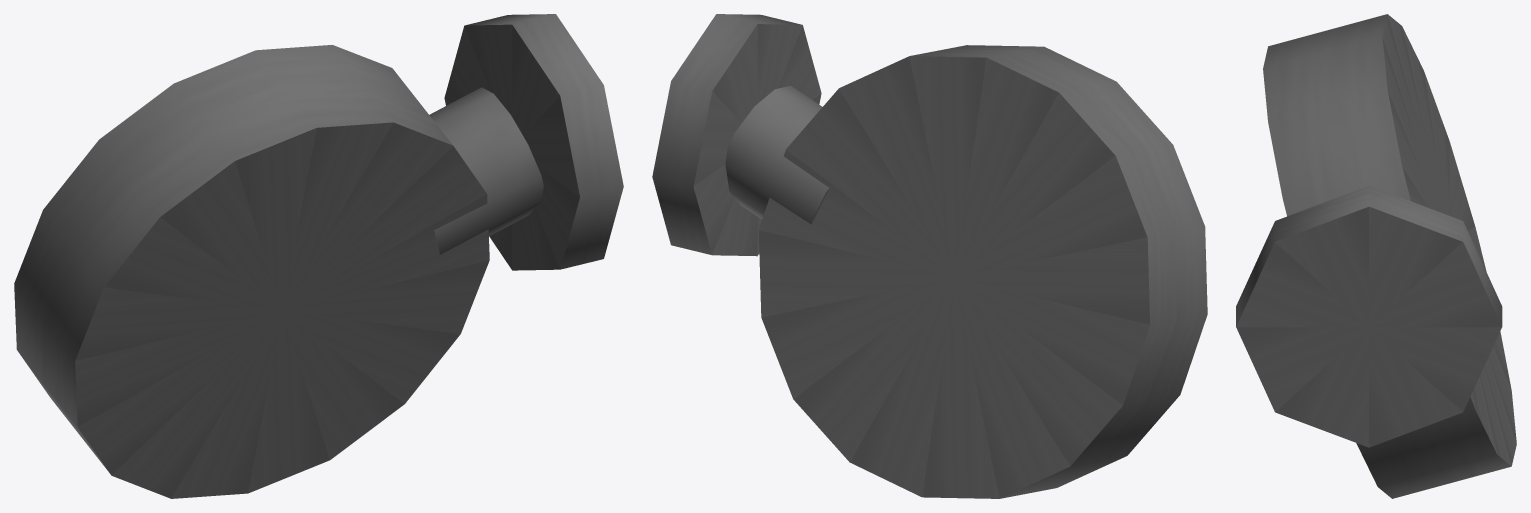
The model's file is mastarmcurve_10x2_c3_east.obj.
3 renders of one model, left to right at view 1: azimuth 30°, elevation 25°; view 2: azimuth 150°, elevation 25°; view 3: azimuth 270°, elevation 25°, orthographic. The views are drawn at different scales.
Visible parts, largest first — view 1: mastarm_10x2_c3_east; view 2: mastarm_10x2_c3_east; view 3: mastarm_10x2_c3_east.
Boxes of the visible parts, x1=… form: mastarm_10x2_c3_east: x1=14, y1=14, x2=623, y2=498; mastarm_10x2_c3_east: x1=652, y1=14, x2=1207, y2=498; mastarm_10x2_c3_east: x1=1236, y1=14, x2=1516, y2=498.
Size of the model in its own units: 0.8523 by 0.73 by 0.4221.
